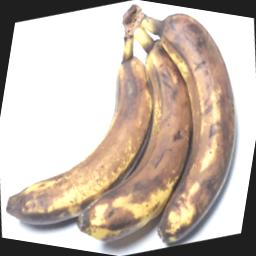Banana Rotten: (68, 18, 249, 256)
